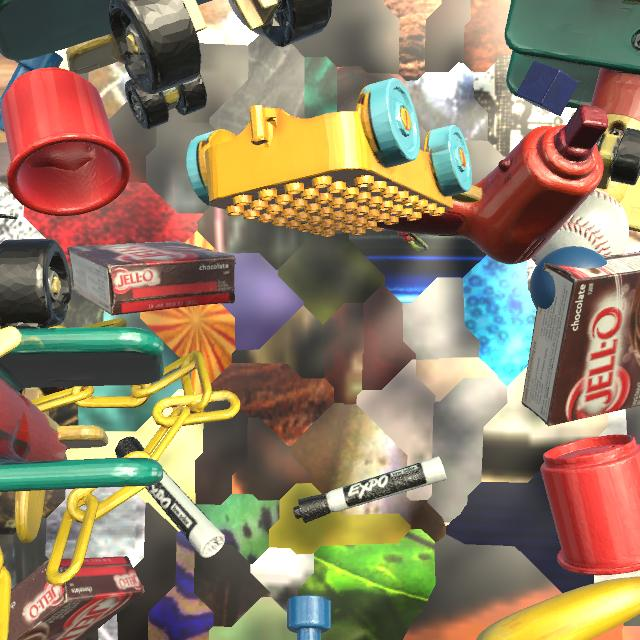ycb_008_pudding_box: (521, 251, 640, 426), (67, 241, 236, 315), (8, 556, 145, 640)
ycb_011_banana: (476, 576, 640, 640)
